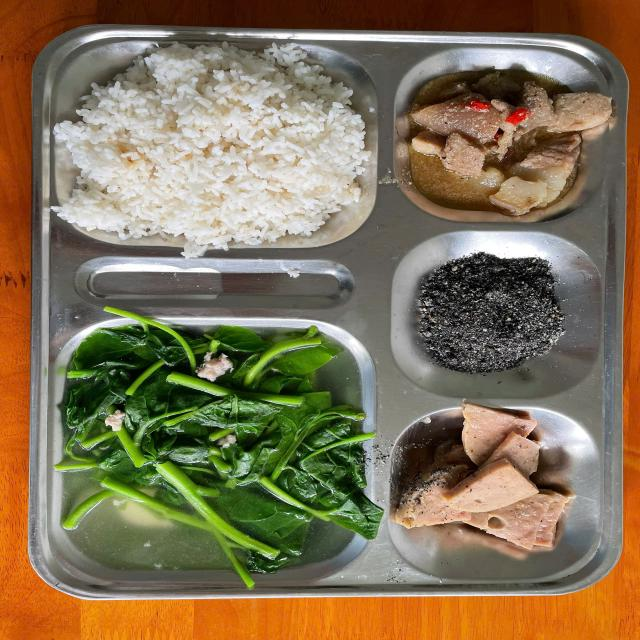canhrau: (62, 317, 365, 578)
giocha: (403, 406, 576, 554)
salad: (65, 48, 364, 249)
thitkhogung: (412, 63, 592, 213)
